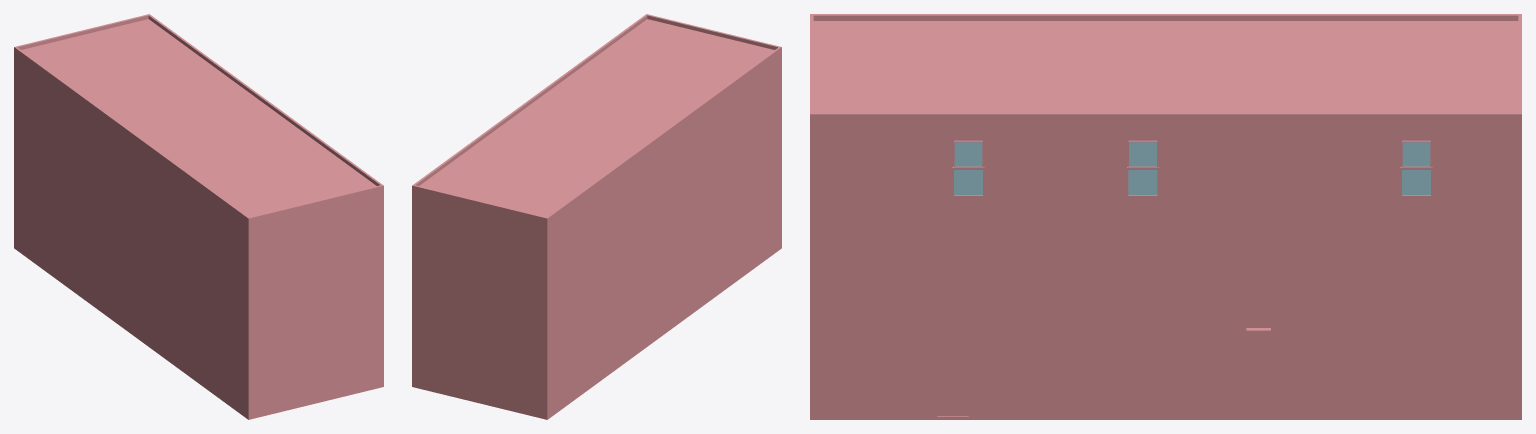
File: Bâtiment_6.fbx
3 views of the same model, side by side, from view 1: azimuth 30°, elevation 25°; view 2: azimuth 150°, elevation 25°; view 3: azimuth 270°, elevation 25° (orthographic). The views are drawn at different scales.
Parts seen in each view (by area): view 1: Cube.003; view 2: Cube.003; view 3: Cube.003.
Part boxes in pixels (x1,y1,x2,y2): Cube.003: [14, 14, 383, 419]; Cube.003: [412, 14, 781, 419]; Cube.003: [810, 14, 1521, 419].
Bounding box in the file's own units: 821 × 1137 × 2400.
